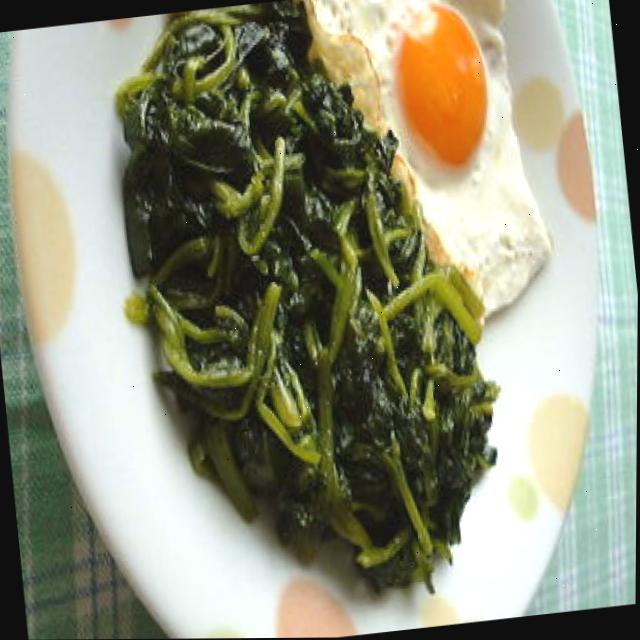蔬菜料理: (12, 0, 572, 640)
